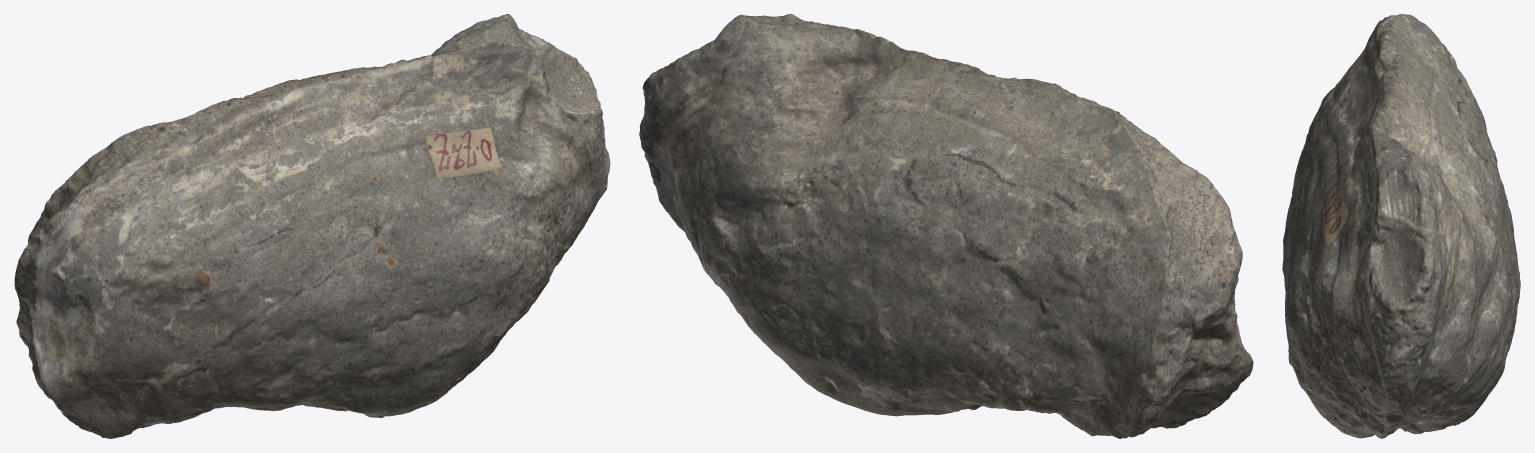
File: EWS0014132.glb
3 renders of one model, left to right at view 1: azimuth 30°, elevation 25°; view 2: azimuth 150°, elevation 25°; view 3: azimuth 270°, elevation 25°, orthographic. The views are drawn at different scales.
Parts seen in each view (by area): view 1: input; view 2: input; view 3: input.
Boxes of the visible parts, x1,y1,x2,y2 form: input: (14,14,610,438); input: (639,14,1253,438); input: (1282,14,1520,438).
Bounding box in the file's own units: 0.0899 × 0.0514 × 0.0338.
1 material, 1 textured.
